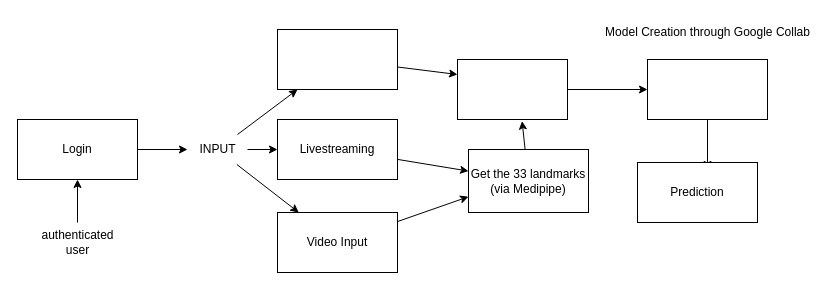
Image size: 840x290. Some labels were removed from this diagram. Each missing label, with the centre of its shape:
Get the desired Features: pixel 512 89
Manual Input: pixel 337 59
Parkinsons Model: pixel 707 89
